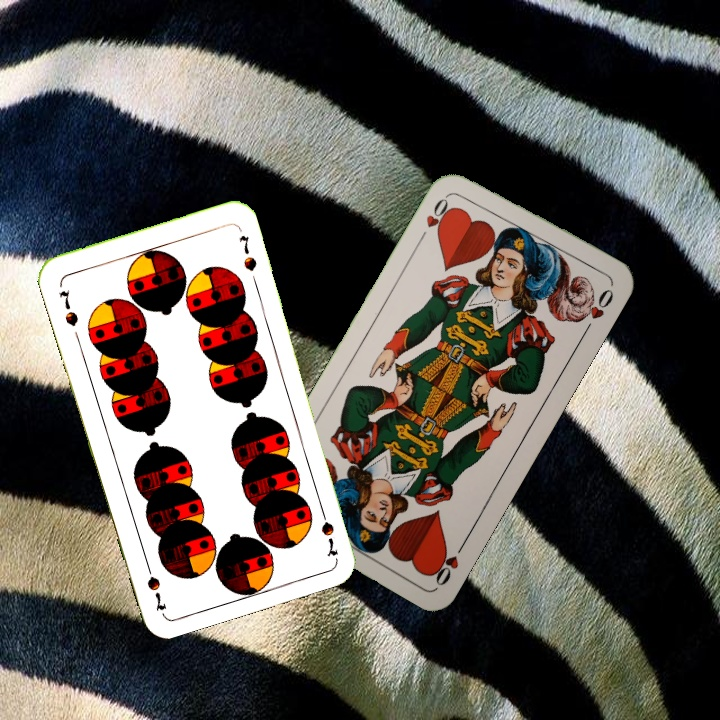HO: (427, 535, 470, 589), (415, 189, 457, 243)
S7: (316, 502, 341, 560), (55, 285, 81, 329)
